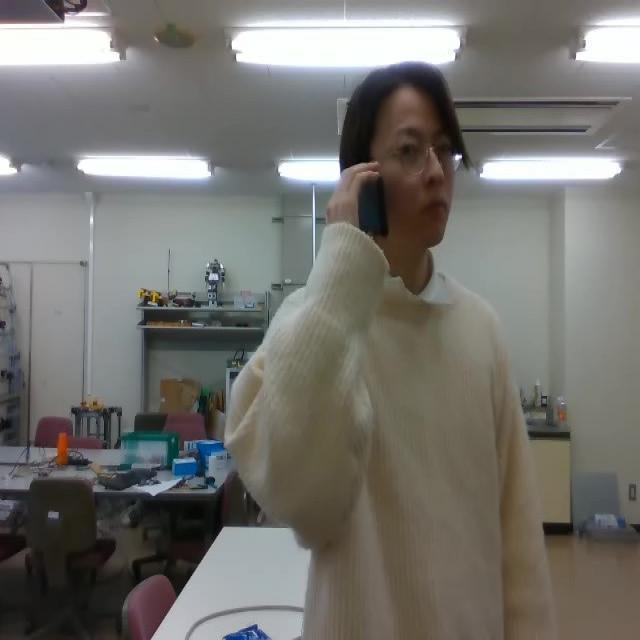Phone: (352, 173, 390, 239)
